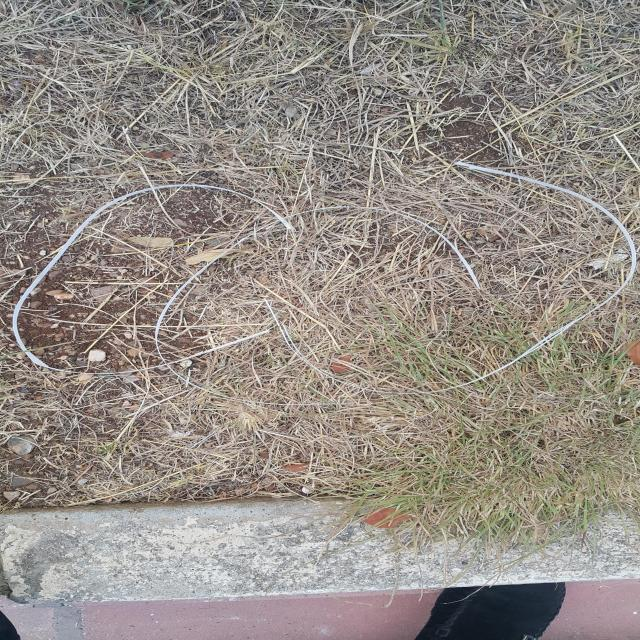litter: (262, 162, 636, 395), (154, 206, 480, 406), (13, 185, 294, 374), (578, 253, 624, 272)
